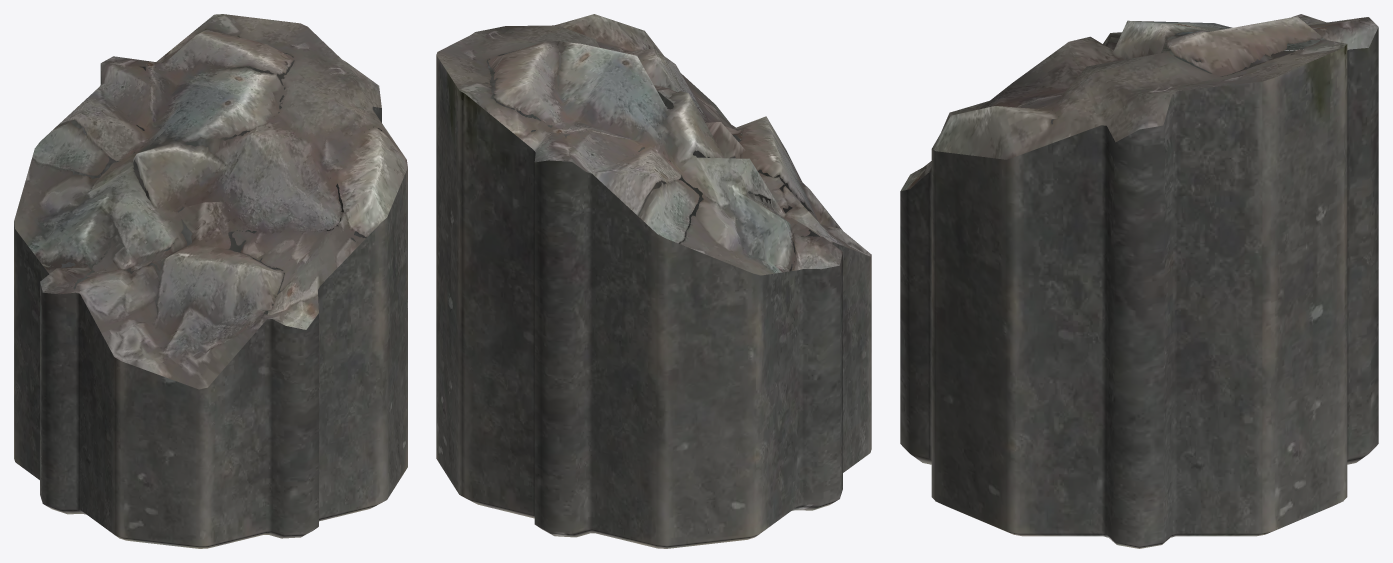
3 renders of one model, left to right at view 1: azimuth 30°, elevation 25°; view 2: azimuth 150°, elevation 25°; view 3: azimuth 270°, elevation 25°, orthographic. The views are drawn at different scales.
Parts seen in each view (by area): view 1: SM_DeathTemple_Pillar_1x4_Block_02_v2_LOD0; view 2: SM_DeathTemple_Pillar_1x4_Block_02_v2_LOD0; view 3: SM_DeathTemple_Pillar_1x4_Block_02_v2_LOD0.
Part boxes in pixels (box(x1,y1,x2,y2)): SM_DeathTemple_Pillar_1x4_Block_02_v2_LOD0: box(14, 14, 407, 548); SM_DeathTemple_Pillar_1x4_Block_02_v2_LOD0: box(436, 14, 871, 548); SM_DeathTemple_Pillar_1x4_Block_02_v2_LOD0: box(900, 14, 1378, 548).
Size of the model in its own units: 1.38 by 1.48 by 1.37.
Materials: 2 (2 with a texture image).
